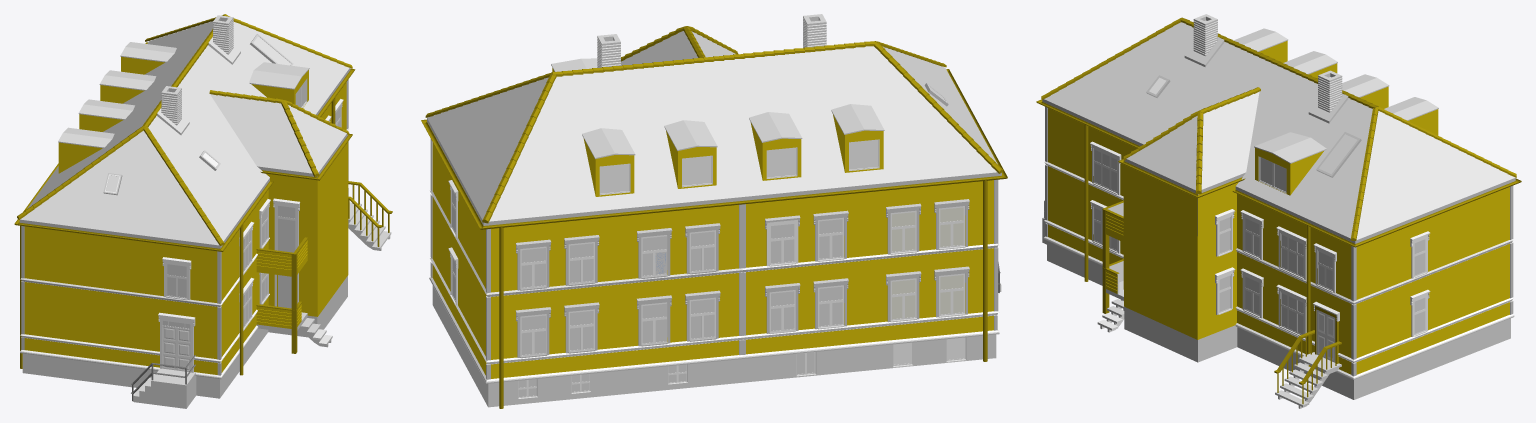
File: house.glb
3 renders of one model, left to right at view 1: azimuth 30°, elevation 25°; view 2: azimuth 150°, elevation 25°; view 3: azimuth 270°, elevation 25°, orthographic. The views are drawn at different scales.
Parts seen in each view (by area): view 1: SketchUp.871, SketchUp.874, SketchUp.865, SketchUp.868, SketchUp.002, SketchUp.867, SketchUp.511, SketchUp.734, SketchUp.872, SketchUp.015, SketchUp.019, SketchUp.484 (+25 smaller); view 2: SketchUp.871, SketchUp.874, SketchUp.001, SketchUp.511, SketchUp.484, SketchUp.872, SketchUp.057, SketchUp.002, SketchUp.052, SketchUp.006, SketchUp.865, SketchUp.731 (+15 smaller); view 3: SketchUp.871, SketchUp.874, SketchUp.868, SketchUp.865, SketchUp.002, SketchUp, SketchUp.511, SketchUp.872, SketchUp.484, SketchUp.057, SketchUp.734, SketchUp.733 (+22 smaller).
Boxes of the visible parts, x1=… form: SketchUp.871: x1=20, y1=21, x2=349, y2=245; SketchUp.874: x1=24, y1=82, x2=346, y2=374; SketchUp.865: x1=210, y1=94, x2=346, y2=173; SketchUp.868: x1=317, y1=142, x2=348, y2=316; SketchUp.002: x1=22, y1=328, x2=268, y2=398; SketchUp.867: x1=266, y1=173, x2=317, y2=316; SketchUp.511: x1=14, y1=42, x2=355, y2=251; SketchUp.734: x1=249, y1=62, x2=309, y2=89; SketchUp.872: x1=19, y1=68, x2=350, y2=248; SketchUp.015: x1=133, y1=380, x2=186, y2=408; SketchUp.019: x1=256, y1=239, x2=307, y2=276; SketchUp.484: x1=20, y1=325, x2=258, y2=379; SketchUp.871: x1=427, y1=46, x2=997, y2=221; SketchUp.874: x1=432, y1=142, x2=993, y2=378; SketchUp.001: x1=688, y1=344, x2=893, y2=387; SketchUp.511: x1=421, y1=69, x2=1007, y2=229; SketchUp.484: x1=429, y1=277, x2=999, y2=383; SketchUp.872: x1=427, y1=118, x2=1001, y2=225; SketchUp.057: x1=430, y1=258, x2=998, y2=364; SketchUp.002: x1=432, y1=285, x2=996, y2=407; SketchUp.052: x1=430, y1=190, x2=998, y2=296; SketchUp.006: x1=591, y1=366, x2=668, y2=397; SketchUp.865: x1=621, y1=31, x2=735, y2=65; SketchUp.731: x1=664, y1=120, x2=717, y2=150; SketchUp.871: x1=1044, y1=22, x2=1515, y2=239; SketchUp.874: x1=1048, y1=108, x2=1509, y2=374; SketchUp.868: x1=1123, y1=165, x2=1238, y2=339; SketchUp.865: x1=1126, y1=91, x2=1259, y2=190; SketchUp.002: x1=1047, y1=241, x2=1510, y2=399; SketchUp: x1=1124, y1=307, x2=1237, y2=362; SketchUp.511: x1=1036, y1=99, x2=1521, y2=247; SketchUp.872: x1=1042, y1=99, x2=1515, y2=243; SketchUp.484: x1=1043, y1=236, x2=1514, y2=379; SketchUp.057: x1=1044, y1=220, x2=1513, y2=362; SketchUp.734: x1=1254, y1=132, x2=1326, y2=163; SketchUp.733: x1=1255, y1=148, x2=1323, y2=195.
Size of the model in its own units: 23.85 by 13.15 by 22.62.
